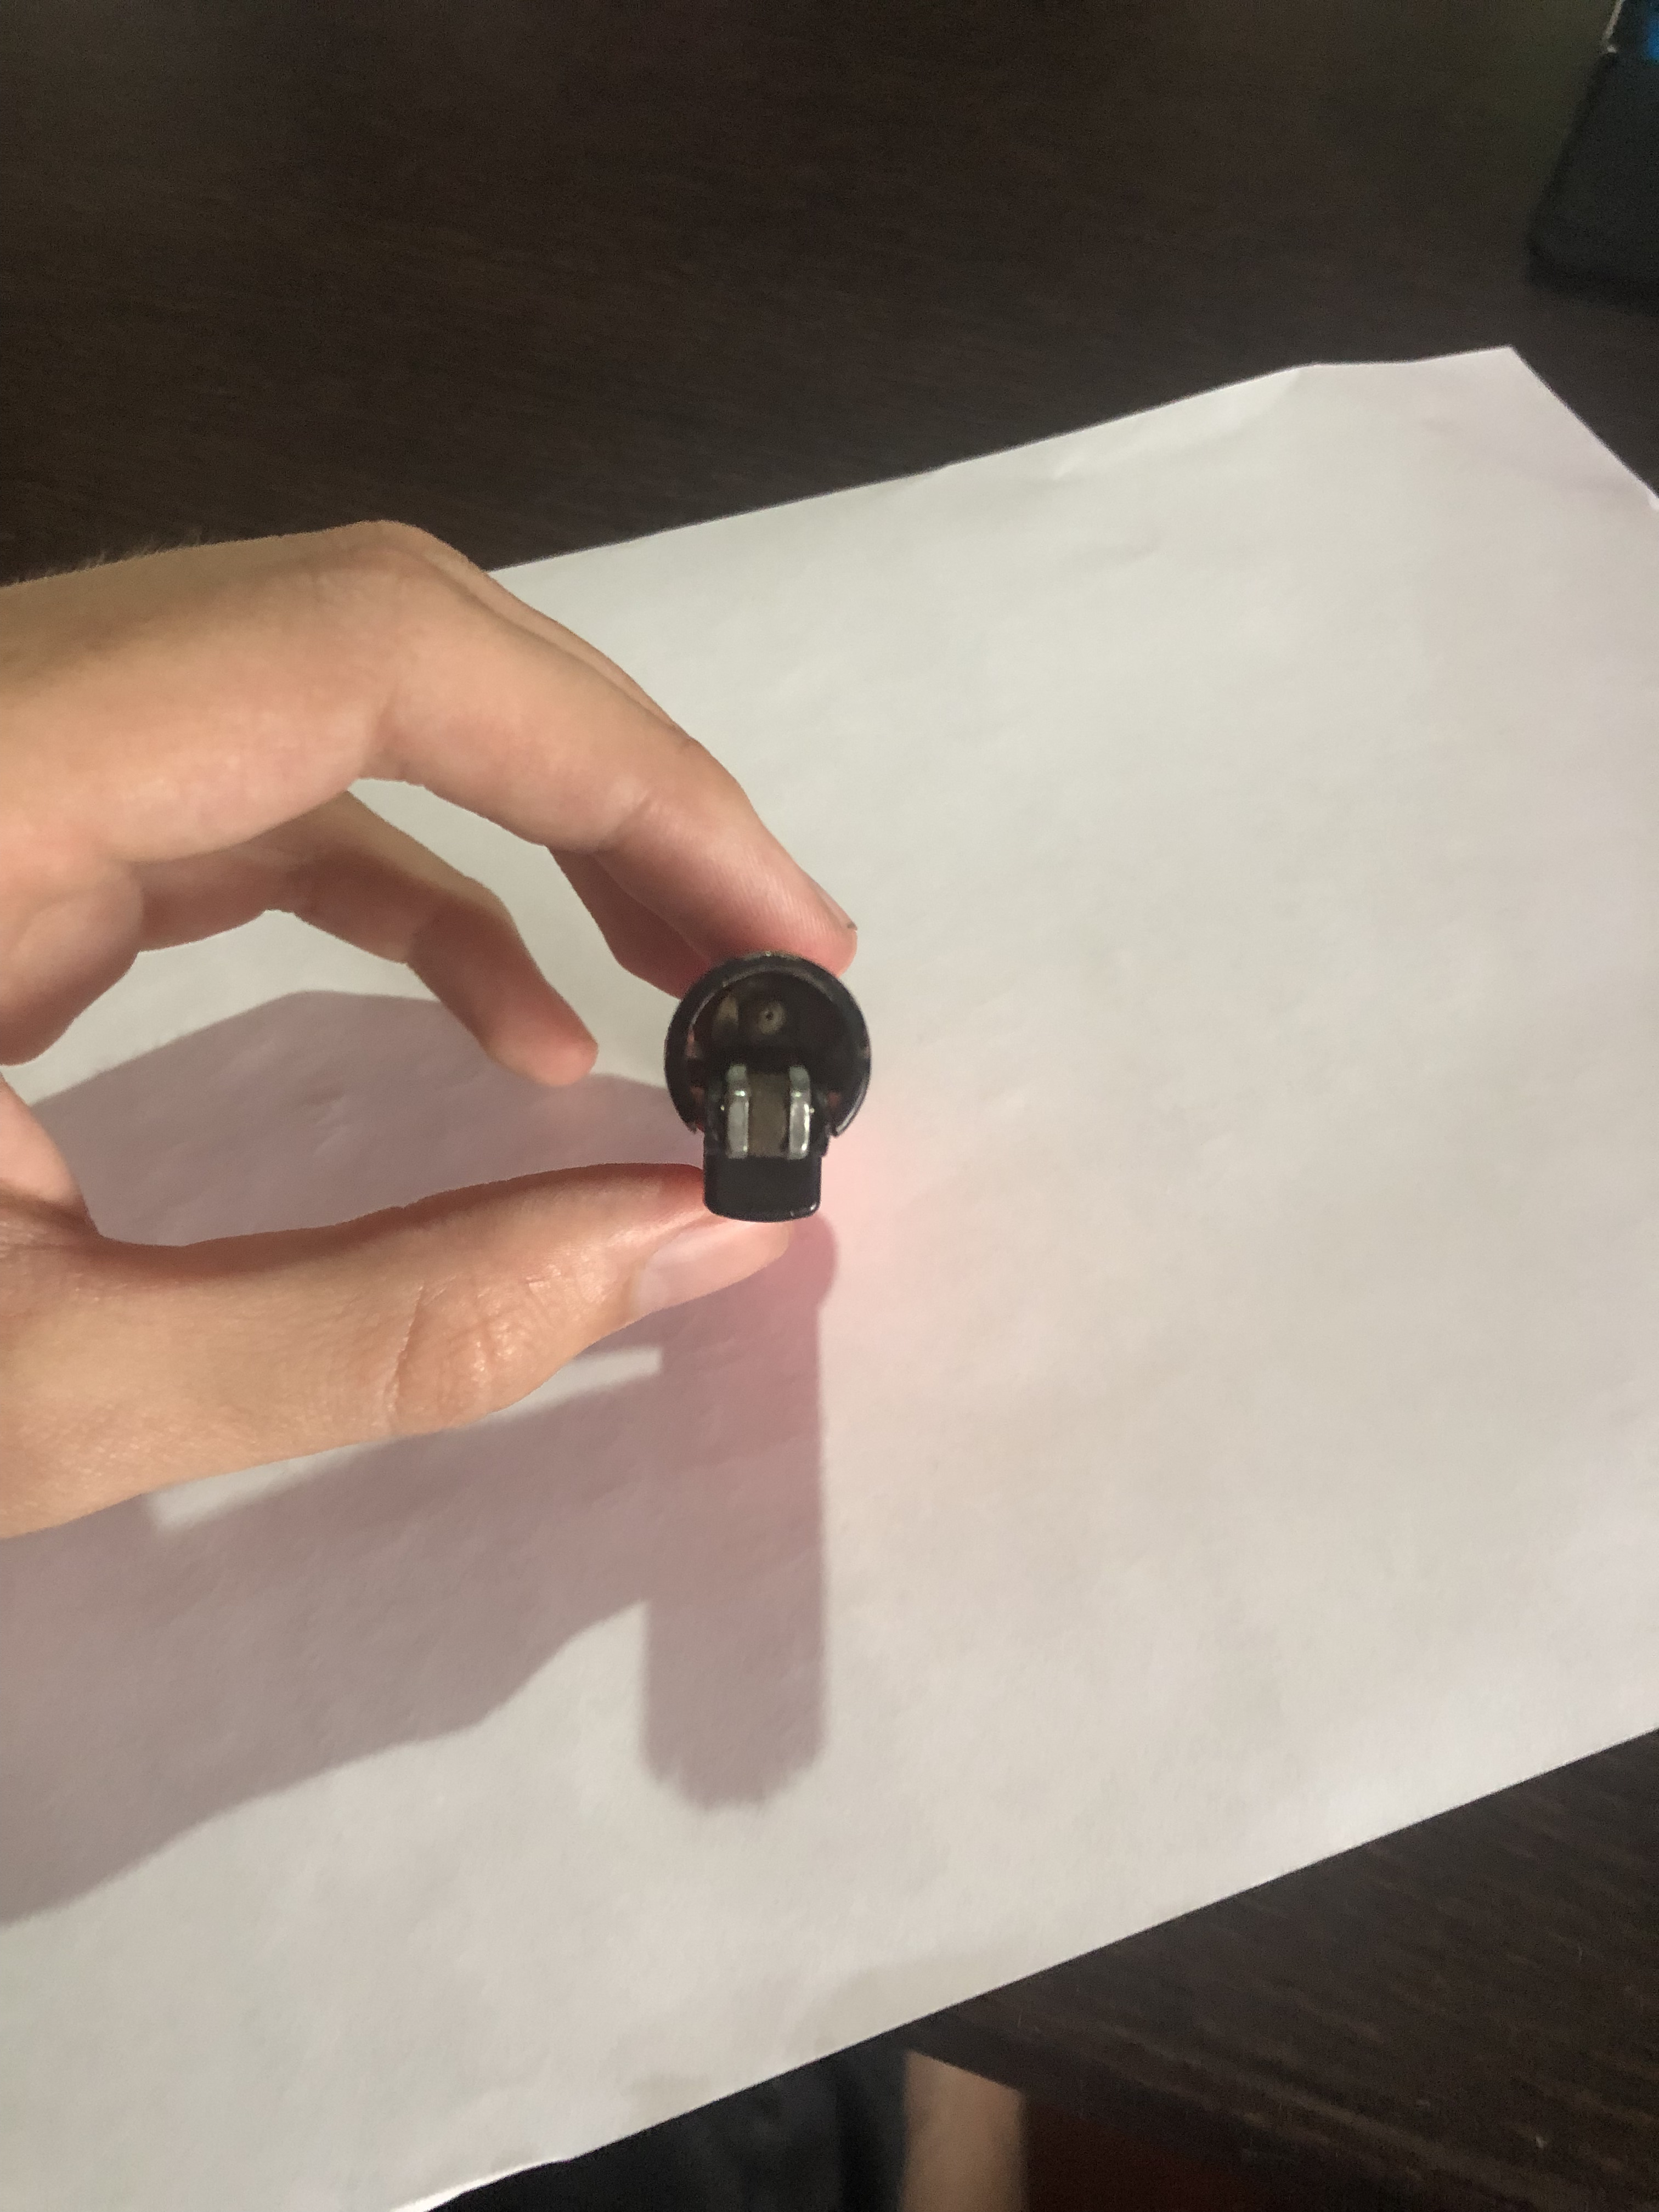Mechero: (631, 956, 875, 1231)
